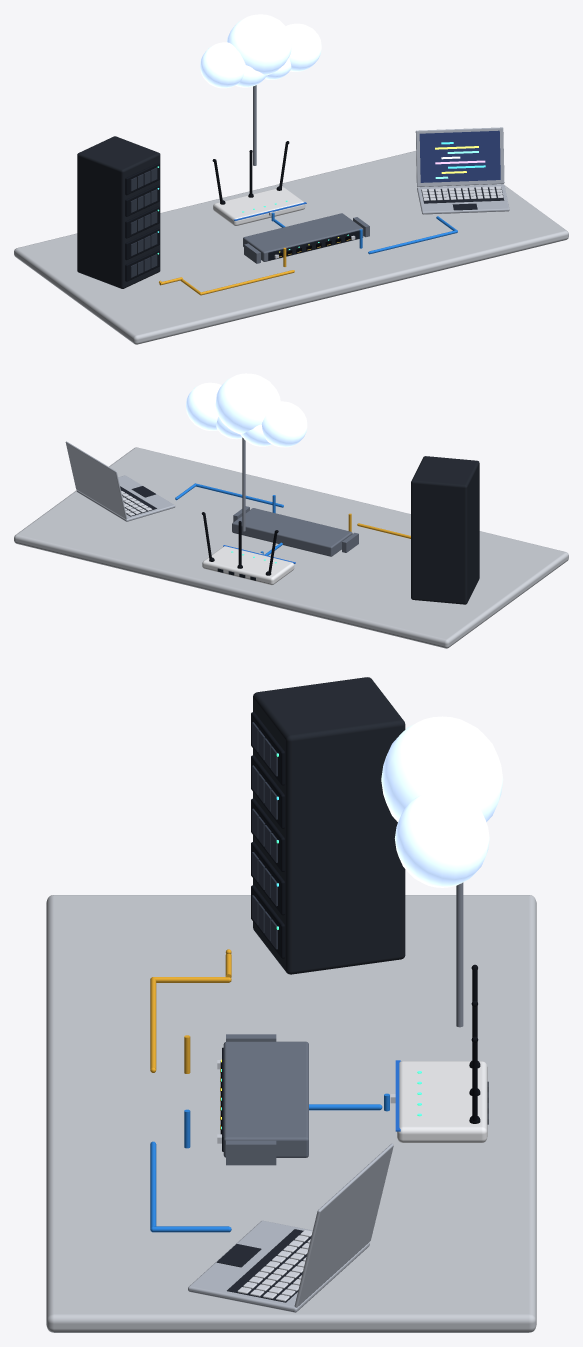
File: jaringan-komputer.glb
The picture shows the model from 3 angles, top to bottom: view 1: azimuth 30°, elevation 25°; view 2: azimuth 150°, elevation 25°; view 3: azimuth 270°, elevation 25°; orthographic projection. The views are drawn at different scales.
Parts seen in each view (by area): view 1: model; view 2: model; view 3: model.
Part boxes in pixels (bbox=[...]): model: bbox=[14, 14, 568, 344]; model: bbox=[14, 373, 568, 648]; model: bbox=[46, 677, 536, 1332].
Size of the model in its own units: 4.01 by 1.81 by 1.95.
